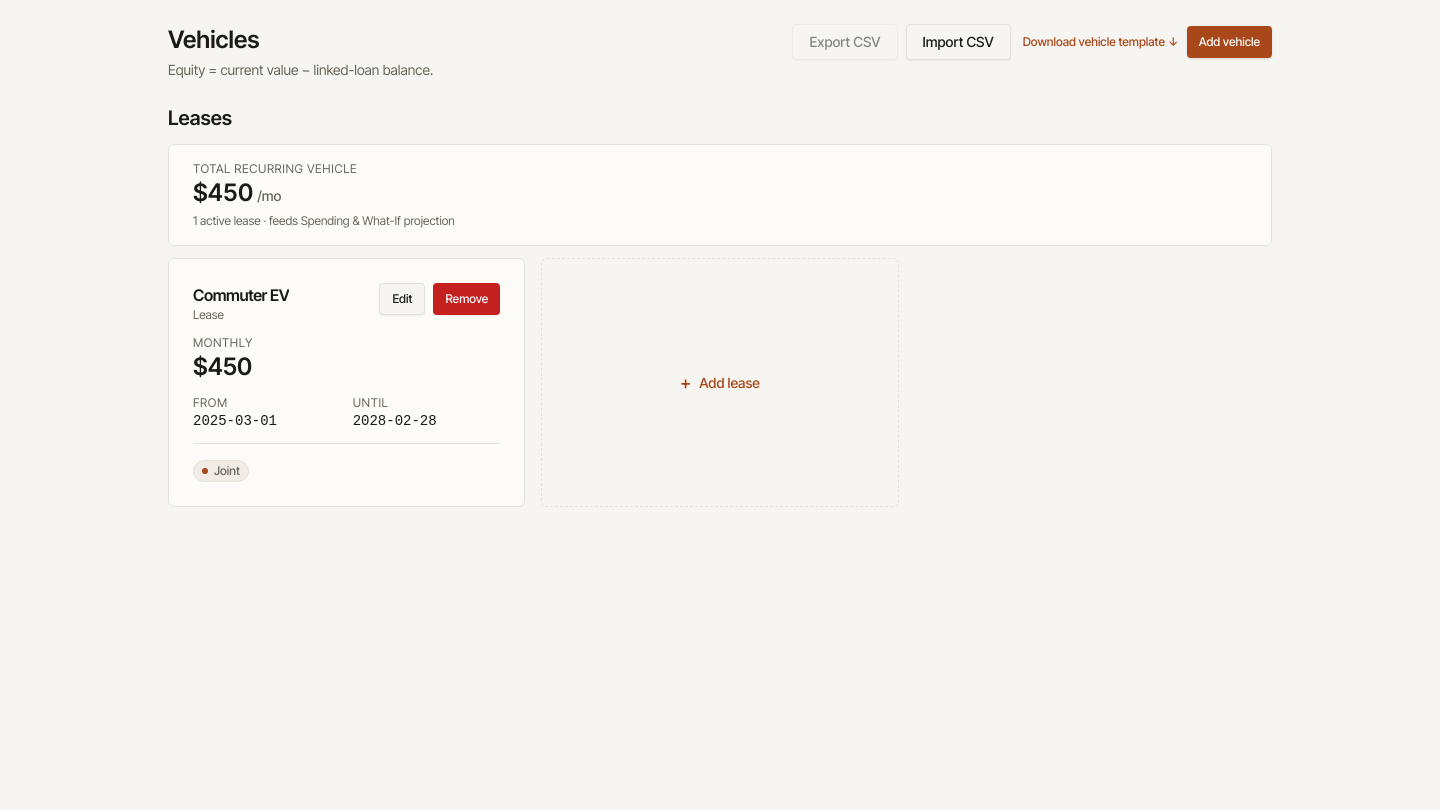
Scenario: Vehicles page › the Add lease tile opens the create drawer in place (W14)
The image size is (1440, 810).
Expected: the text "Commuter EV" is shown, [193,283,289,307]
Step 1. Click the button "+ Add lease" → (720, 382), box [541,258,899,507]
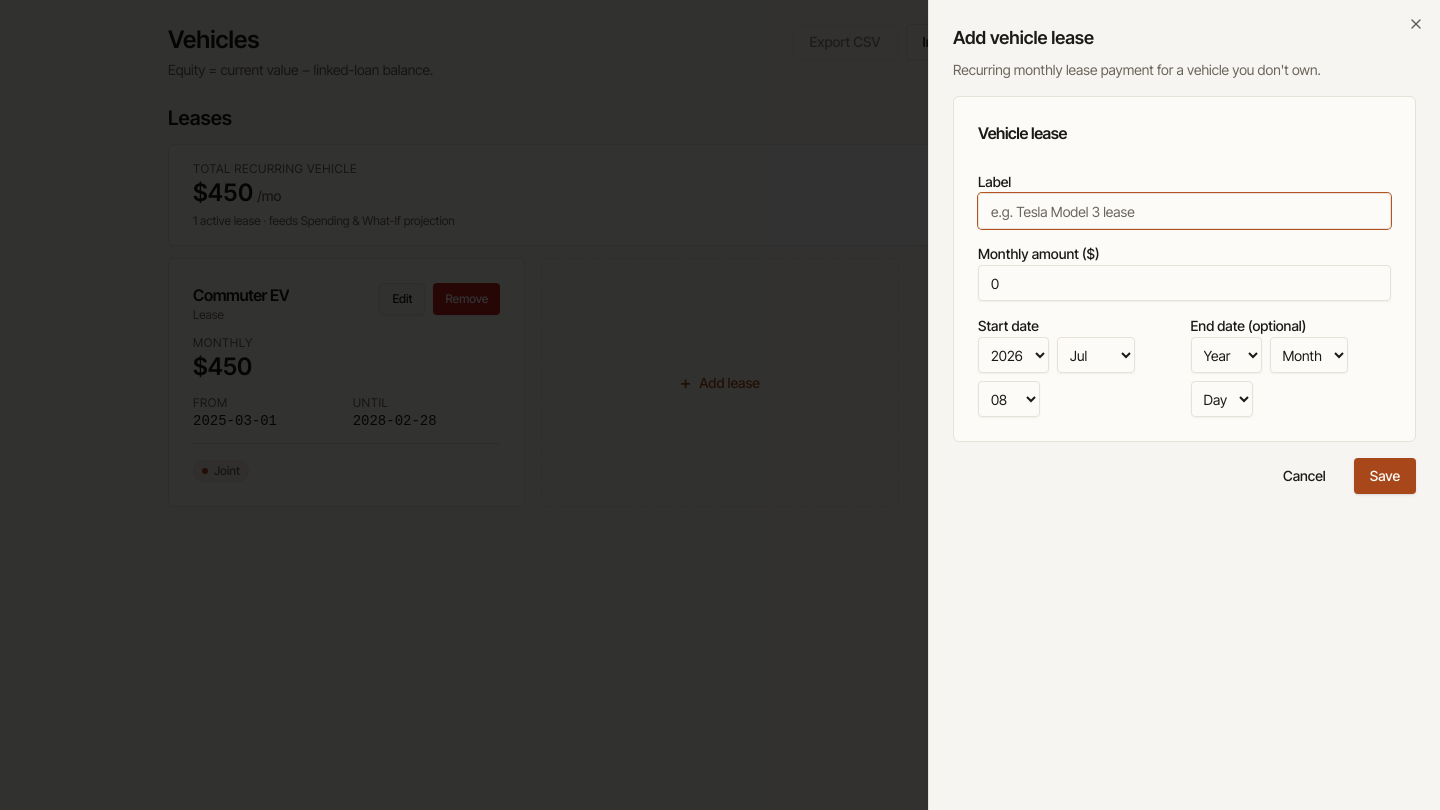
Expected: the dialog "Add vehicle lease" is shown, [928,0,1439,809]
